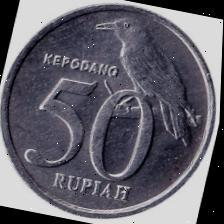coin_50_1999: (1, 2, 218, 219)
